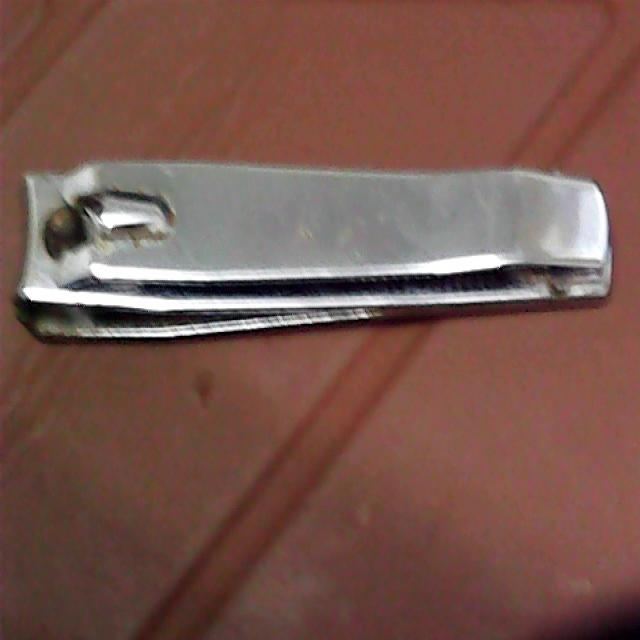Nail_clipper: (16, 160, 612, 337)
